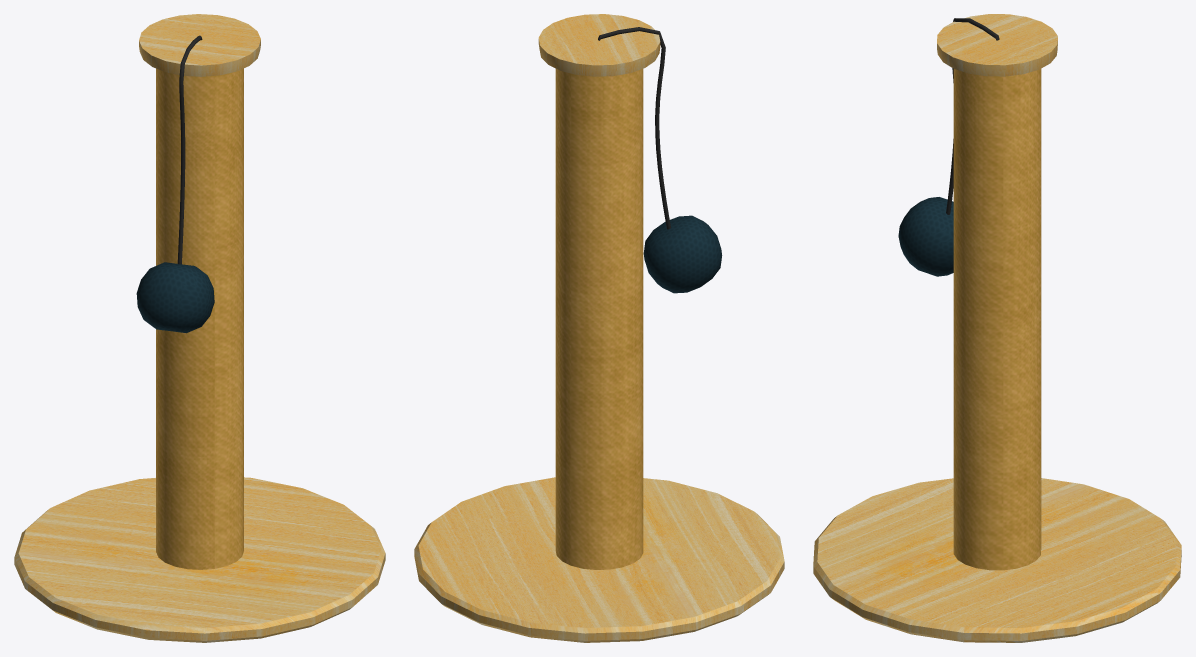
Rendered from Scratcher.fbx.
The picture shows the model from 3 angles, left to right: view 1: azimuth 30°, elevation 25°; view 2: azimuth 150°, elevation 25°; view 3: azimuth 270°, elevation 25°; orthographic projection.
Parts seen in each view (by area): view 1: Scratcher; view 2: Scratcher; view 3: Scratcher.
Part boxes in pixels (<box>): Scratcher: <box>14,14,385,642</box>; Scratcher: <box>414,14,784,642</box>; Scratcher: <box>813,14,1181,642</box>.
Bounding box in the file's own units: 4.14 × 6.65 × 4.14.
Materials: 2 (2 with a texture image).
